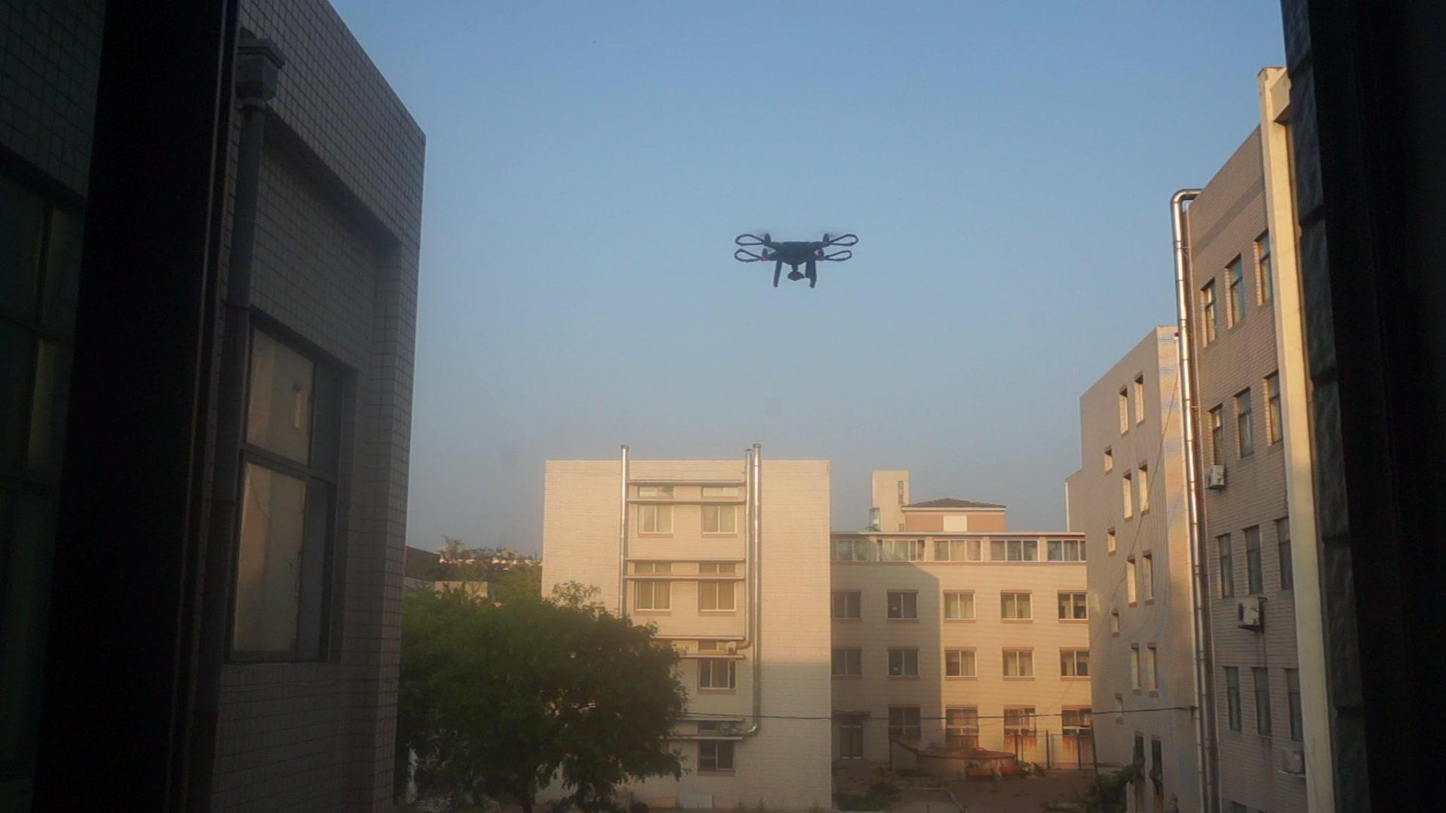UAV: (734, 230, 860, 291)
